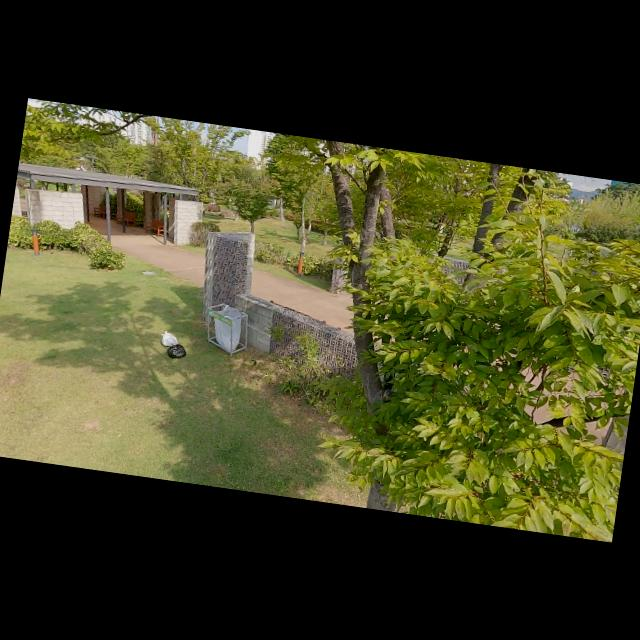trash: (158, 328, 180, 350), (166, 340, 189, 361)
